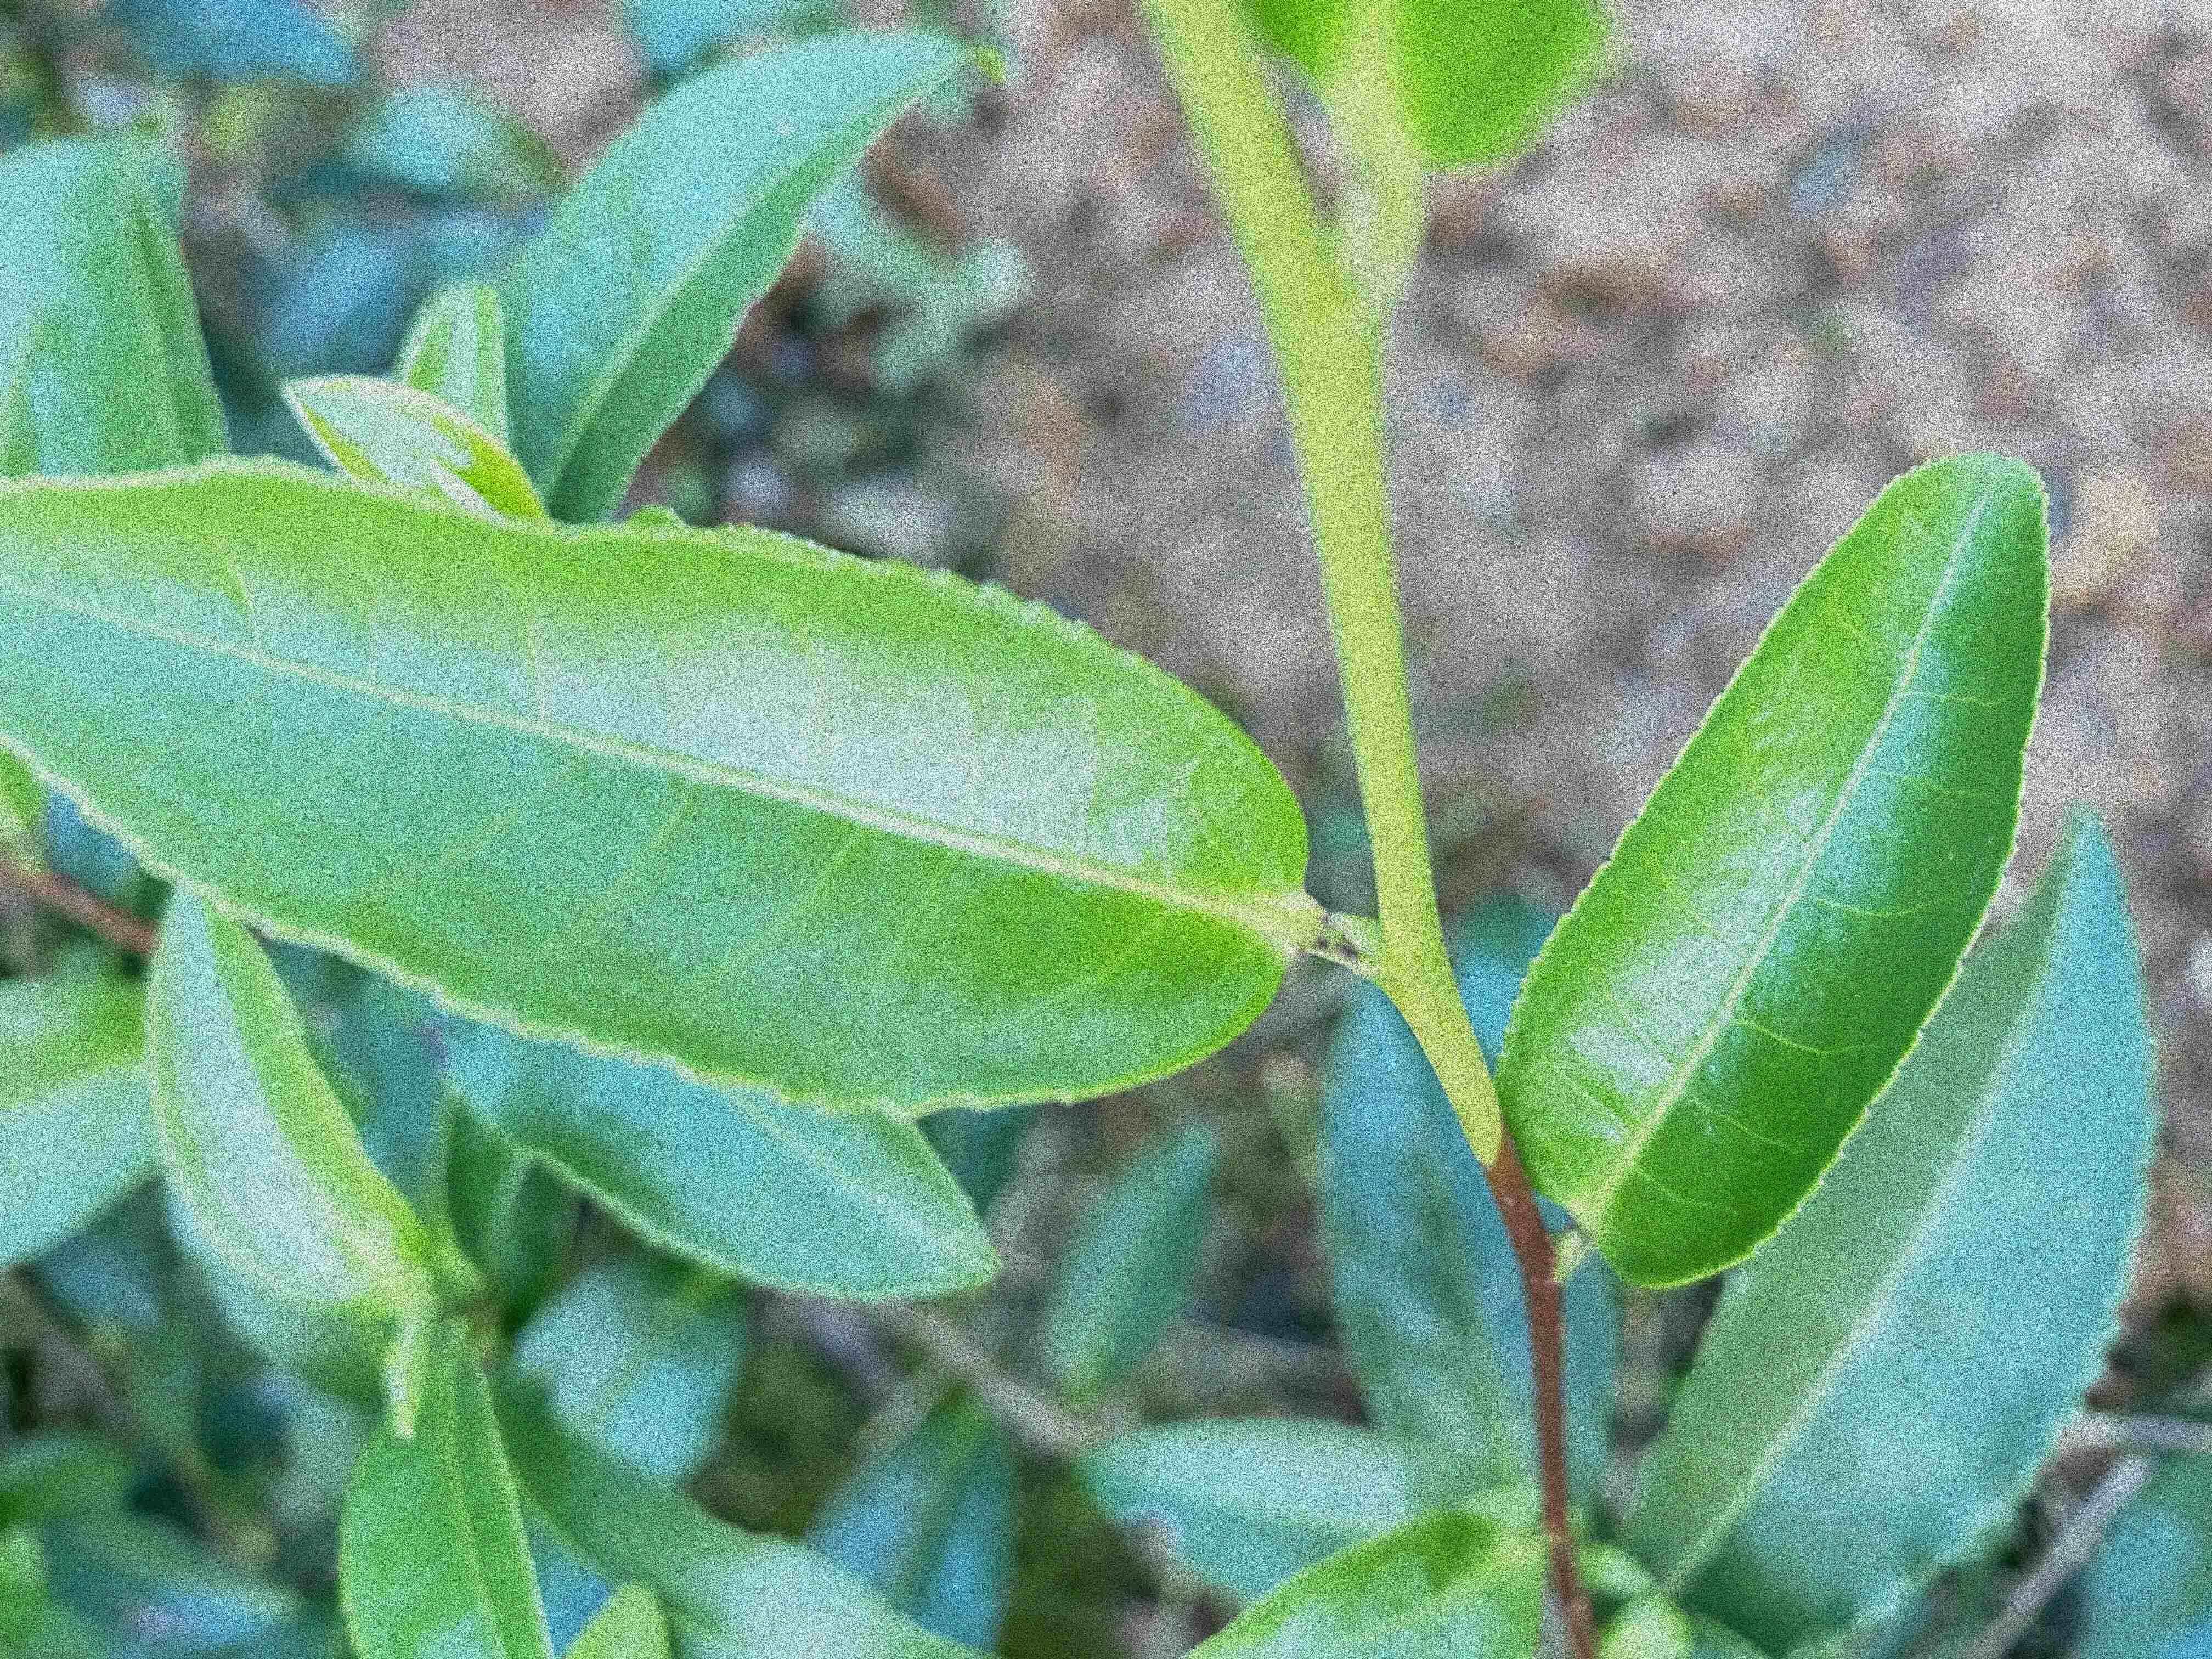healthy: (3, 455, 1313, 1124), (1493, 450, 2052, 1291)
